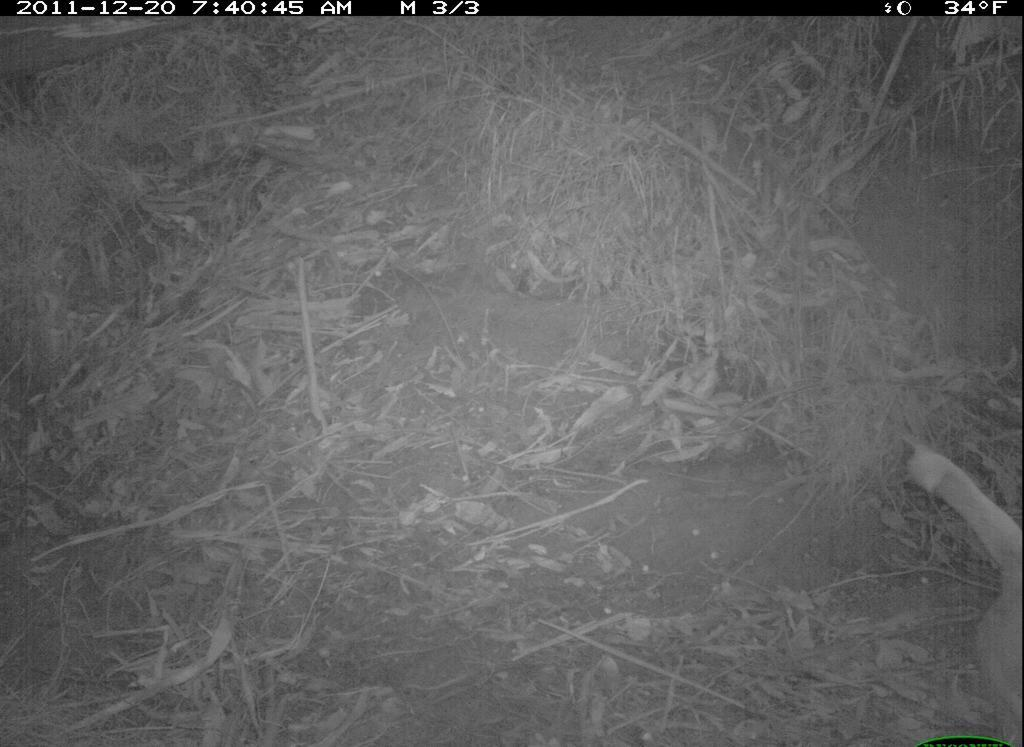dog: (900, 442, 1019, 731)
